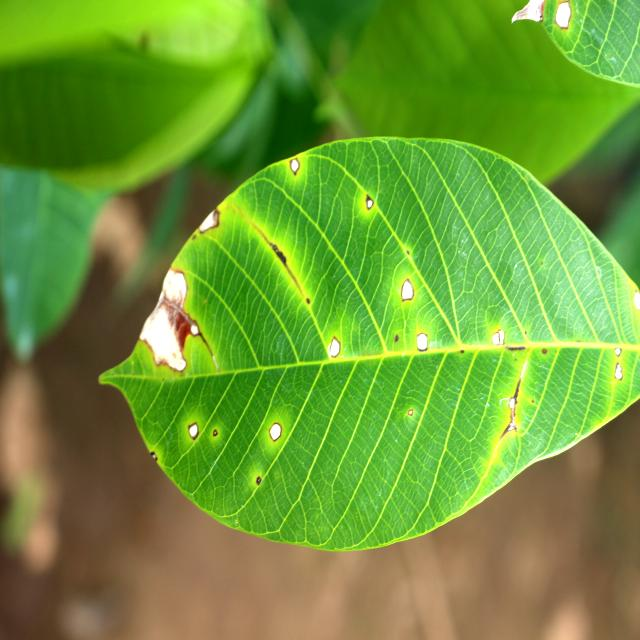Colletotrichum: (554, 0, 572, 30), (401, 279, 415, 302), (269, 422, 282, 442), (417, 332, 428, 352), (330, 336, 340, 357), (188, 422, 199, 440), (366, 195, 374, 211), (256, 476, 262, 485), (615, 347, 621, 356), (212, 429, 218, 436), (408, 408, 413, 416)
Corynespora: (256, 226, 302, 294), (496, 375, 522, 448)
Leaf-Blight: (139, 266, 187, 371), (511, 0, 545, 23), (199, 208, 217, 231), (290, 159, 300, 176)
